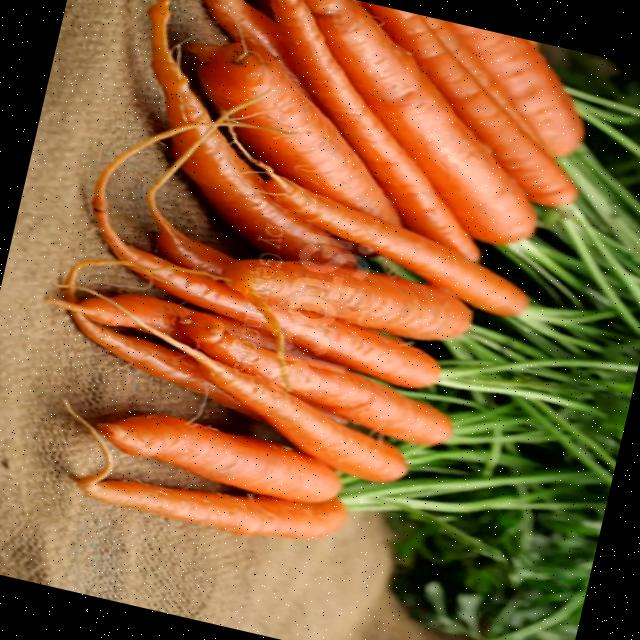carrot: (94, 208, 439, 387), (303, 0, 535, 244), (145, 0, 352, 263), (270, 0, 476, 261), (361, 2, 575, 204), (187, 44, 410, 230), (62, 400, 345, 539), (263, 169, 528, 316), (173, 312, 447, 444), (185, 348, 407, 482), (96, 414, 339, 503), (68, 311, 260, 420), (222, 259, 471, 340), (446, 23, 583, 157)
